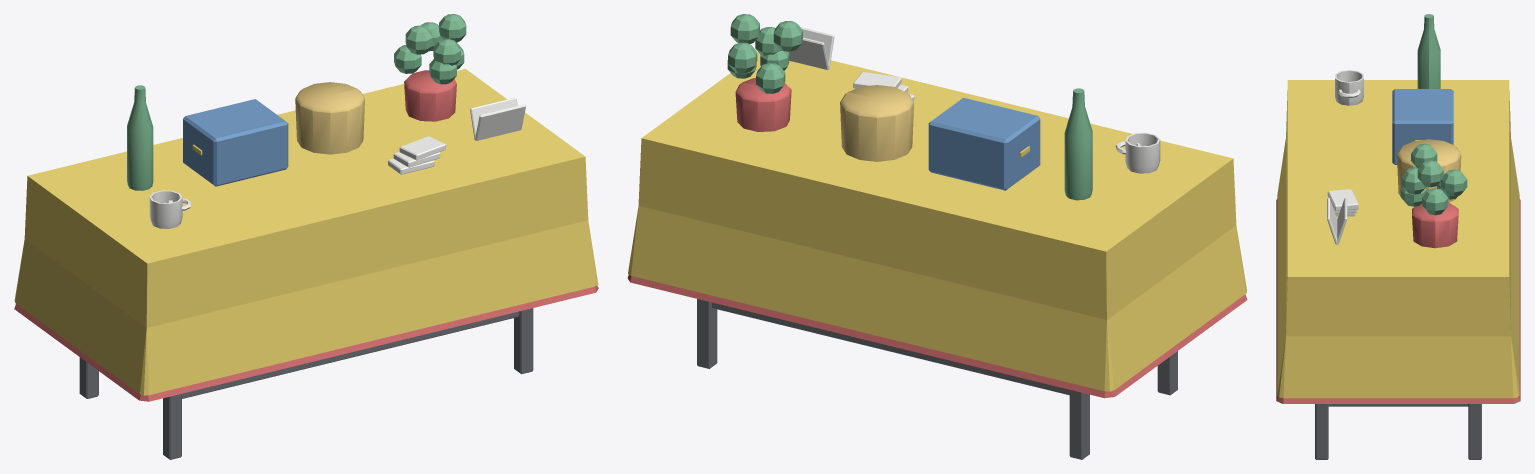
The model's file is village-hall-and-community-events-raffle-table-af0f6485.glb.
3 views of the same model, side by side, from view 1: azimuth 30°, elevation 25°; view 2: azimuth 150°, elevation 25°; view 3: azimuth 270°, elevation 25° (orthographic). The views are drawn at different scales.
Parts seen in each view (by area): view 1: raffle-table; view 2: raffle-table; view 3: raffle-table.
Part boxes in pixels (x1,y1,x2,y2): raffle-table: (14, 14, 598, 459); raffle-table: (627, 14, 1247, 459); raffle-table: (1276, 14, 1520, 459).
Bounding box in the file's own units: 1.6 × 1.06 × 0.7959.
